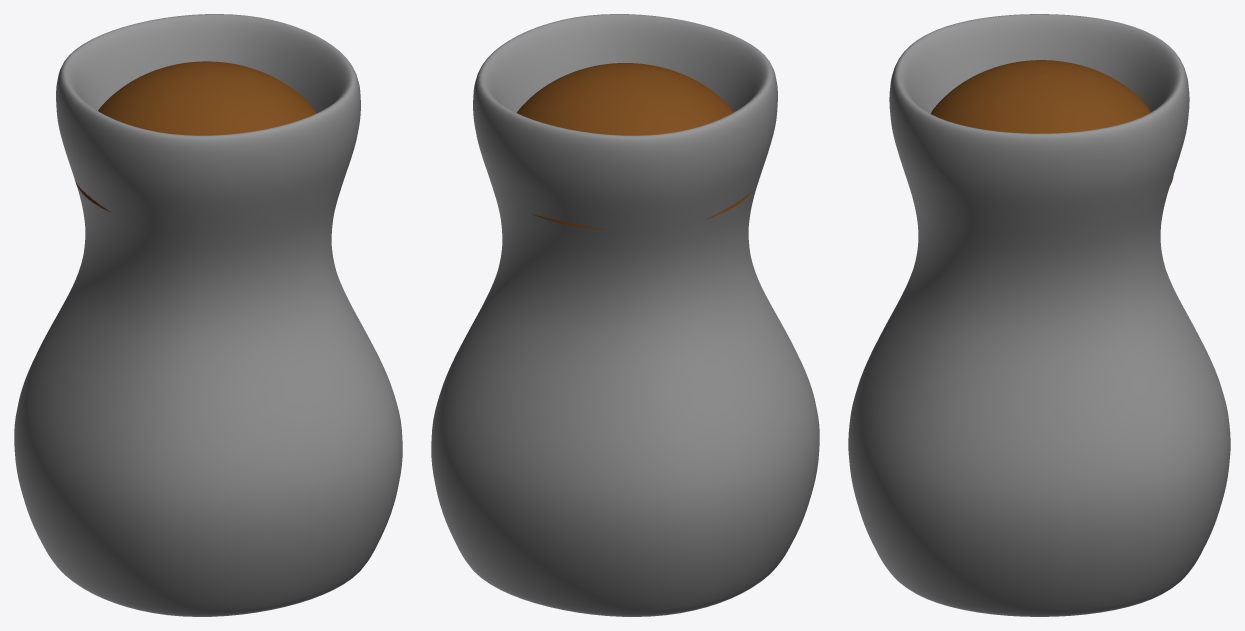
The model's file is mac primavera5.fbx.
3 renders of one model, left to right at view 1: azimuth 30°, elevation 25°; view 2: azimuth 150°, elevation 25°; view 3: azimuth 270°, elevation 25°, orthographic.
Parts seen in each view (by area): view 1: maceta; view 2: maceta; view 3: maceta.
Boxes of the visible parts, <box> form: maceta: <box>14,14,402,616</box>; maceta: <box>431,14,819,616</box>; maceta: <box>848,14,1230,616</box>.
Bounding box in the file's own units: 38.92 × 53.76 × 38.92.
